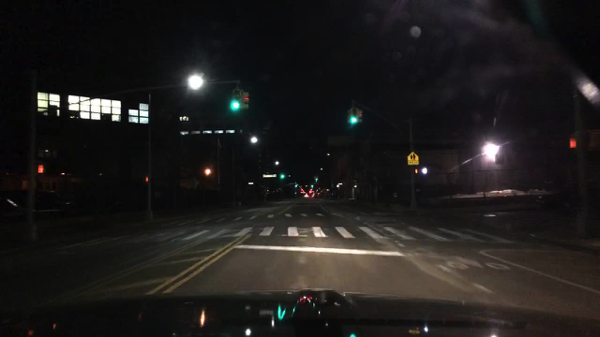car: (37, 189, 76, 217), (0, 199, 35, 226)
traffic light: (230, 89, 240, 111), (36, 162, 46, 176), (242, 91, 249, 110), (568, 135, 574, 150), (352, 109, 357, 125), (348, 110, 352, 128), (358, 109, 363, 123), (143, 176, 147, 183), (415, 168, 417, 175)
traffic sign: (407, 153, 419, 165), (263, 175, 277, 177), (263, 176, 276, 177)
